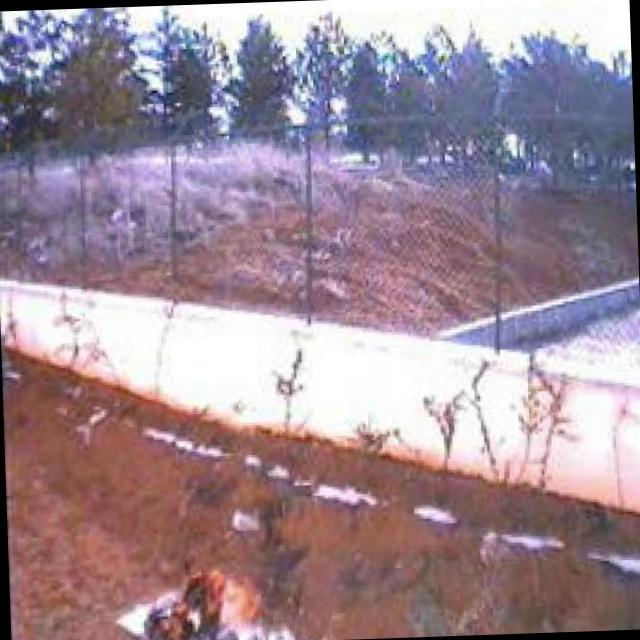Fire: (134, 567, 270, 640)
